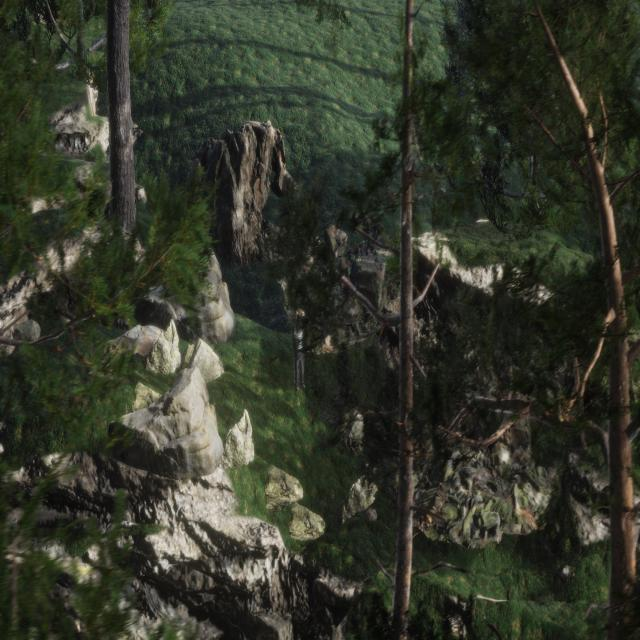Human: (283, 294, 310, 403)
